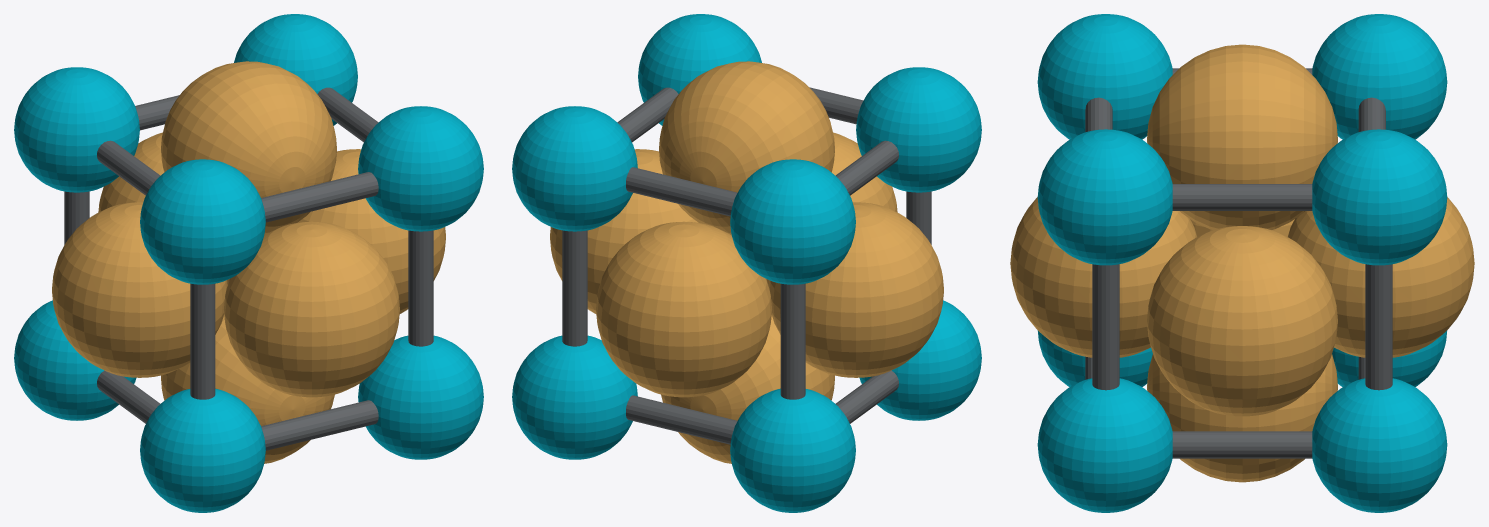
File: estrutura03.glb
The picture shows the model from 3 angles, left to right: view 1: azimuth 30°, elevation 25°; view 2: azimuth 150°, elevation 25°; view 3: azimuth 270°, elevation 25°; orthographic projection. The views are drawn at different scales.
Parts seen in each view (by area): view 1: Mesh_Mesh_head_geo.001_lambert2SG.001; view 2: Mesh_Mesh_head_geo.001_lambert2SG.001; view 3: Mesh_Mesh_head_geo.001_lambert2SG.001.
Boxes of the visible parts, x1,y1,x2,y2 form: Mesh_Mesh_head_geo.001_lambert2SG.001: (14, 14, 483, 512); Mesh_Mesh_head_geo.001_lambert2SG.001: (512, 14, 981, 512); Mesh_Mesh_head_geo.001_lambert2SG.001: (1010, 14, 1474, 512).
Size of the model in its own units: 34 by 34 by 34.
